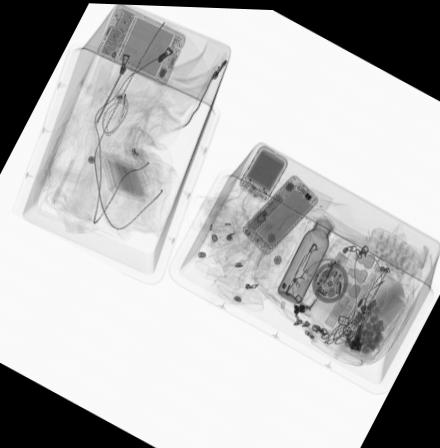Powerbank: (234, 140, 290, 200), (98, 148, 149, 202)
